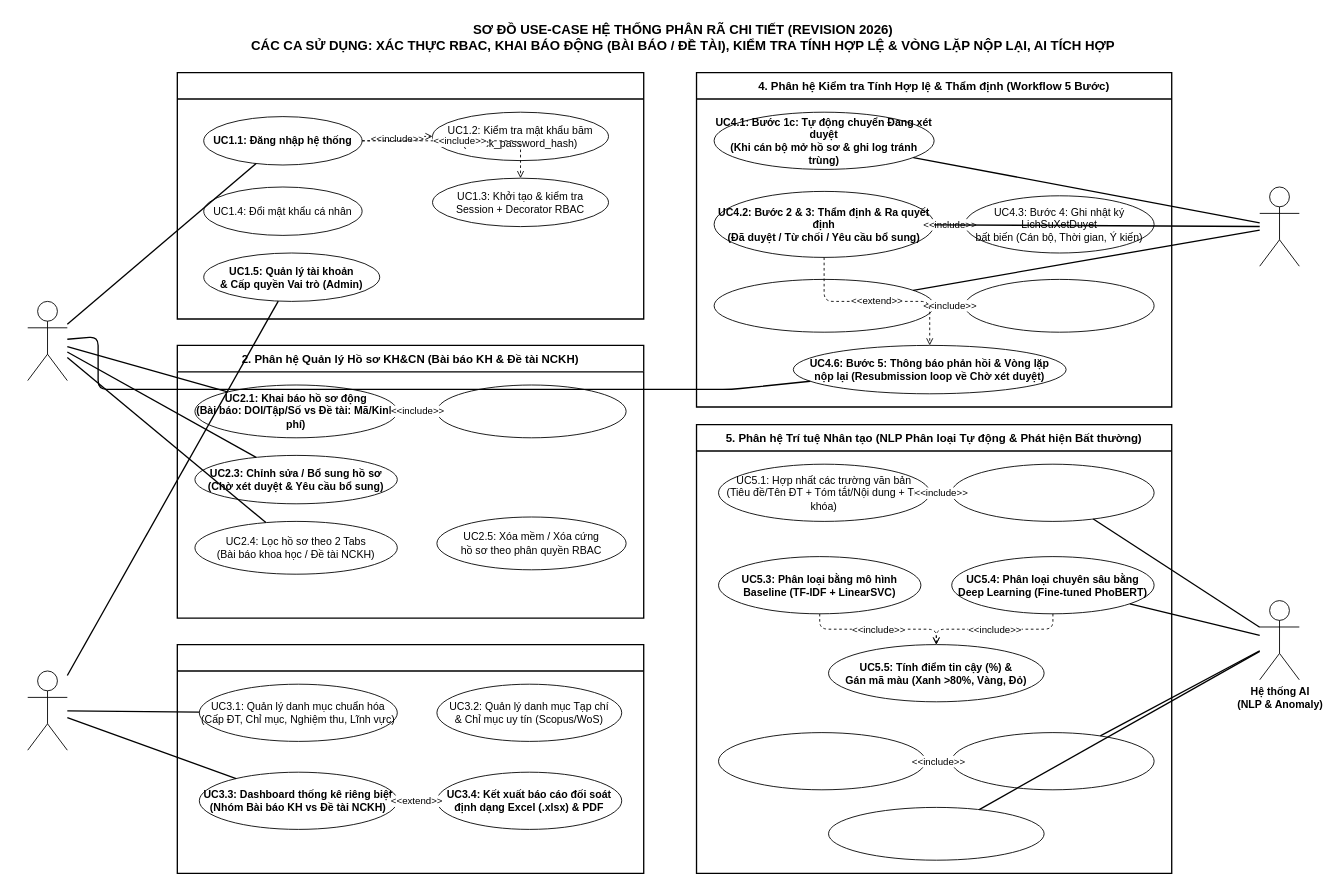
This 1338x889 diagram has some shape labels left out. The shapes that lost their labels are listed below. From the top down, each one's box as (x1, y1, x2, y2) in pixels, then its label:
(176, 72, 644, 319): 1. Phân hệ Xác thực & Phân quyền (Authentication & RBAC)
(1259, 186, 1299, 266): Cán bộ Thẩm định
(713, 279, 934, 332): UC4.4: Xác nhận hoặc Điều chỉnh nhãn lĩnh vực do AI đề xuất
(964, 279, 1154, 332): UC4.5: Lưu cặp nhãn (AI vs Thực tế) vào CSDL phục vụ Fine-tuning
(27, 301, 67, 381): Tác giả / Giảng viên
(436, 384, 626, 438): UC2.2: Đính kèm tệp minh chứng (PDF/DOCX - Quyết định, Bìa bài báo)
(951, 463, 1154, 521): UC5.2: Làm sạch văn bản, xóa Stopwords & Tách từ tiếng Việt (PyVi / Underthesea)
(27, 670, 67, 750): Quản trị viên (Admin)
(176, 644, 644, 874): 3. Phân hệ Quản lý Danh mục & Báo cáo Thống kê Chuyên Sâu
(718, 732, 925, 790): UC5.6: Dựng đồ thị quan hệ NetworkX (Tác giả - Công trình - Lĩnh vực - Tạp chí)
(951, 732, 1154, 790): UC5.7: Phát hiện bất thường bằng Isolation Forest (Trùng lặp / Sai lệch ngành)
(828, 807, 1044, 860): UC5.8: Đánh giá mô hình thực nghiệm (Precision, Recall, F1-Score)
